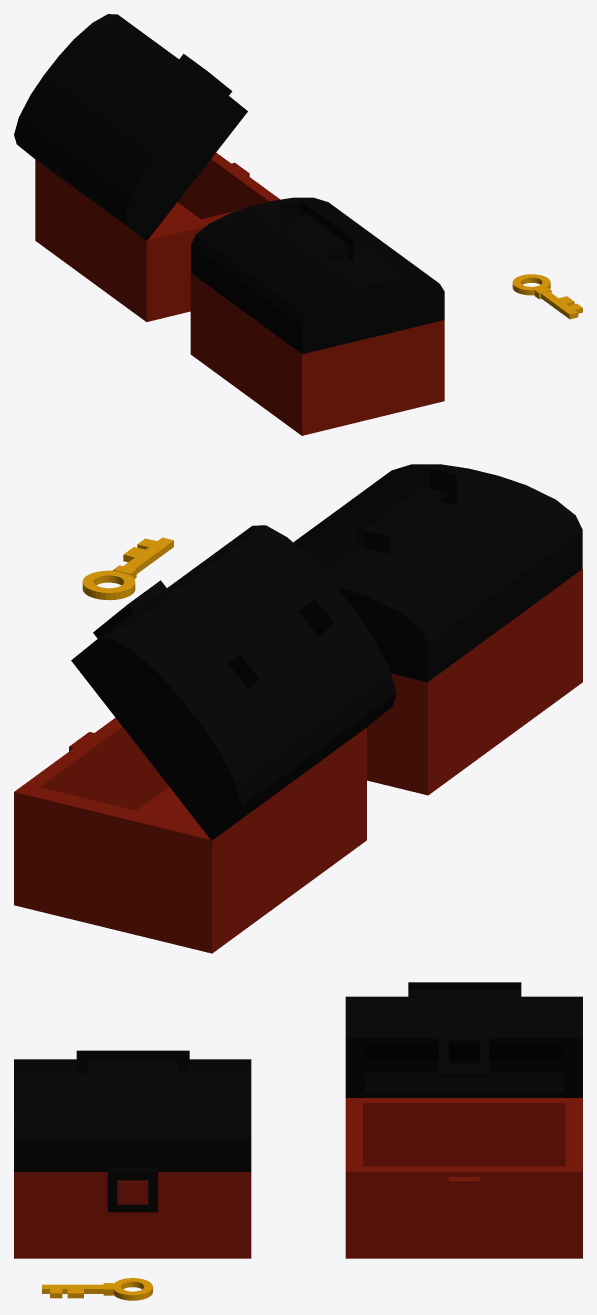
Rendered from toolbox_key.fbx.
3 views of the same model, one above another, from view 1: azimuth 30°, elevation 25°; view 2: azimuth 150°, elevation 25°; view 3: azimuth 270°, elevation 25° (orthographic). The views are drawn at different scales.
Parts seen in each view (by area): view 1: Cube.001, Cube.002, Cube, Cube.003, Cylinder; view 2: Cube.001, Cube.003, Cube.002, Cube, Cylinder; view 3: Cube.003, Cube.002, Cube.001, Cube, Cylinder.
Part boxes in pixels (left/top/right/bottom): Cube.001: left=14, top=14, right=247, bottom=240; Cube.002: left=191, top=197, right=444, bottom=354; Cube: left=190, top=273, right=444, bottom=435; Cube.003: left=35, top=152, right=279, bottom=321; Cylinder: left=512, top=274, right=582, bottom=319; Cube.001: left=71, top=525, right=396, bottom=840; Cube.003: left=14, top=718, right=366, bottom=953; Cube.002: left=293, top=464, right=582, bottom=682; Cube: left=367, top=569, right=582, bottom=795; Cylinder: left=82, top=537, right=173, bottom=600; Cube.003: left=345, top=1098, right=582, bottom=1258; Cube.002: left=14, top=1050, right=251, bottom=1212; Cube.001: left=345, top=982, right=582, bottom=1097; Cube: left=14, top=1172, right=251, bottom=1258; Cylinder: left=42, top=1278, right=152, bottom=1300.
Size of the model in its own units: 453 by 280 by 648.
